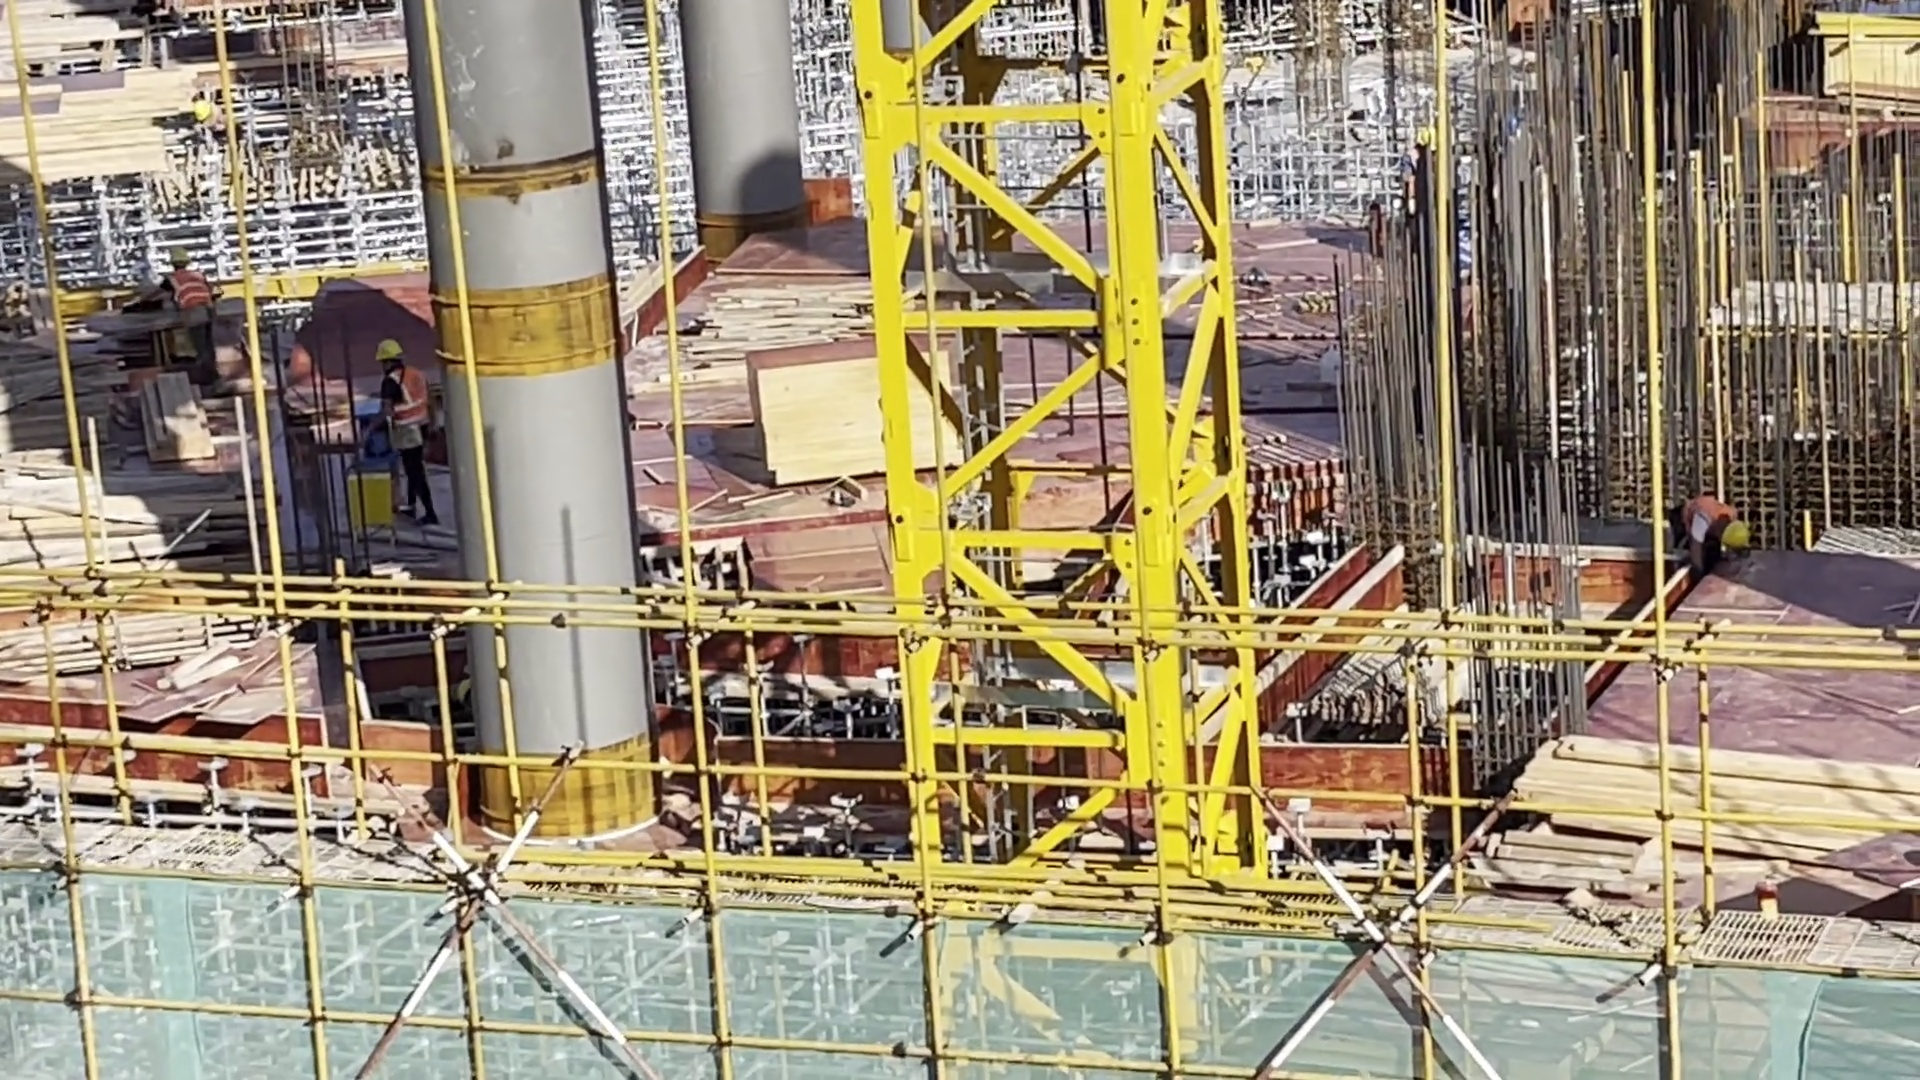board: (741, 337, 968, 491), (1815, 2, 1920, 101)
helmet: (1723, 513, 1758, 559), (375, 336, 408, 369), (163, 242, 193, 271), (196, 102, 216, 125)
person: (376, 331, 448, 533), (150, 244, 231, 386), (1665, 486, 1768, 587), (191, 83, 234, 165)
vest: (382, 369, 433, 435), (168, 265, 223, 318), (1680, 491, 1733, 546)
wood: (1516, 721, 1920, 883), (2, 444, 284, 582), (137, 371, 215, 459)
